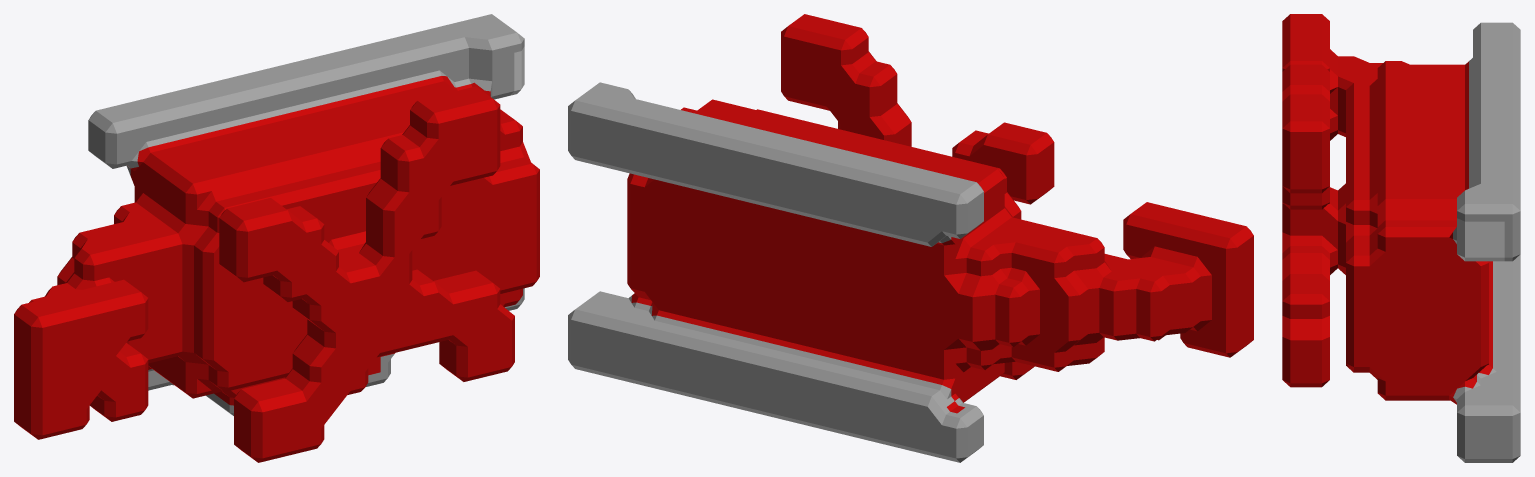
Rendered from helicopeter-0-helicopter.dae.
3 views of the same model, side by side, from view 1: azimuth 30°, elevation 25°; view 2: azimuth 150°, elevation 25°; view 3: azimuth 270°, elevation 25° (orthographic). The views are drawn at different scales.
Parts seen in each view (by area): view 1: node; view 2: node; view 3: node.
Boxes of the visible parts, x1,y1,x2,y2 form: node: [14, 14, 539, 462]; node: [568, 14, 1253, 462]; node: [1282, 14, 1520, 462].
Bounding box in the file's own units: 4 × 2 × 1.5.
